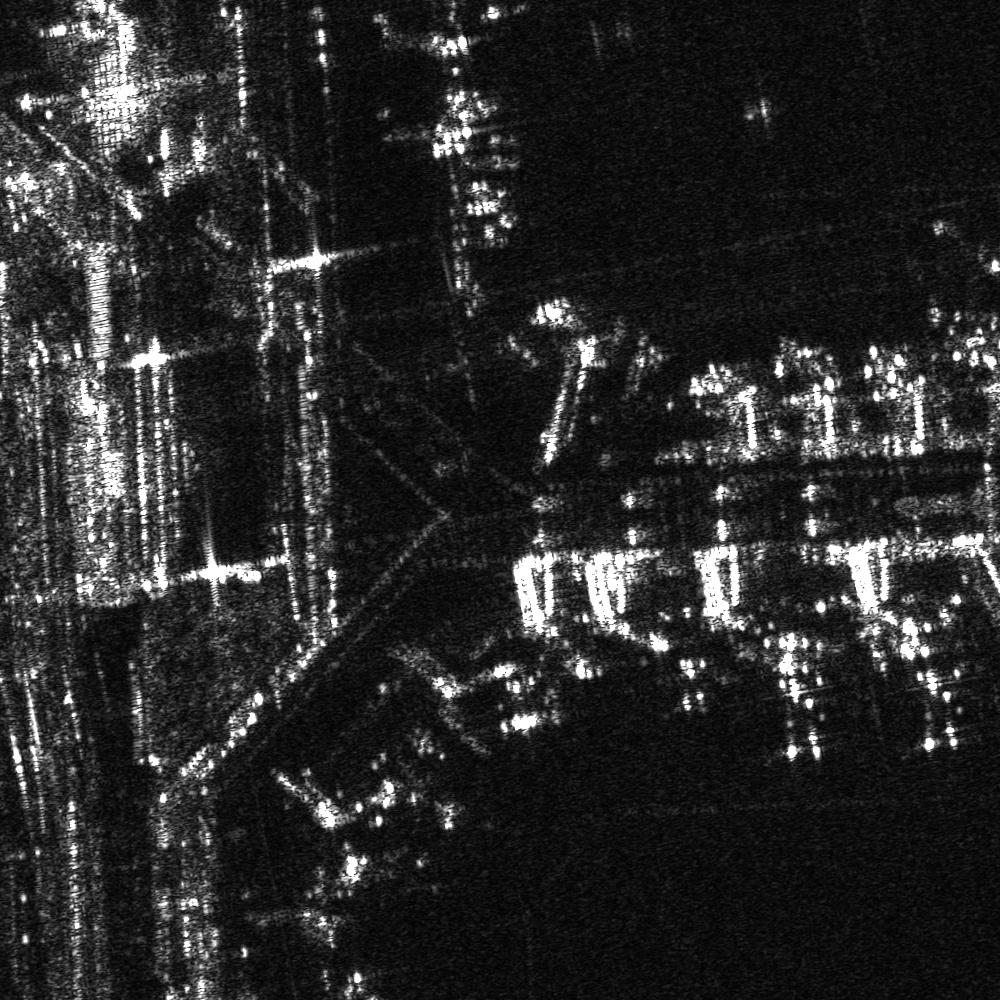A220: (899, 219, 999, 314)
Boeing787: (738, 674, 844, 764)
other: (888, 662, 988, 759)
